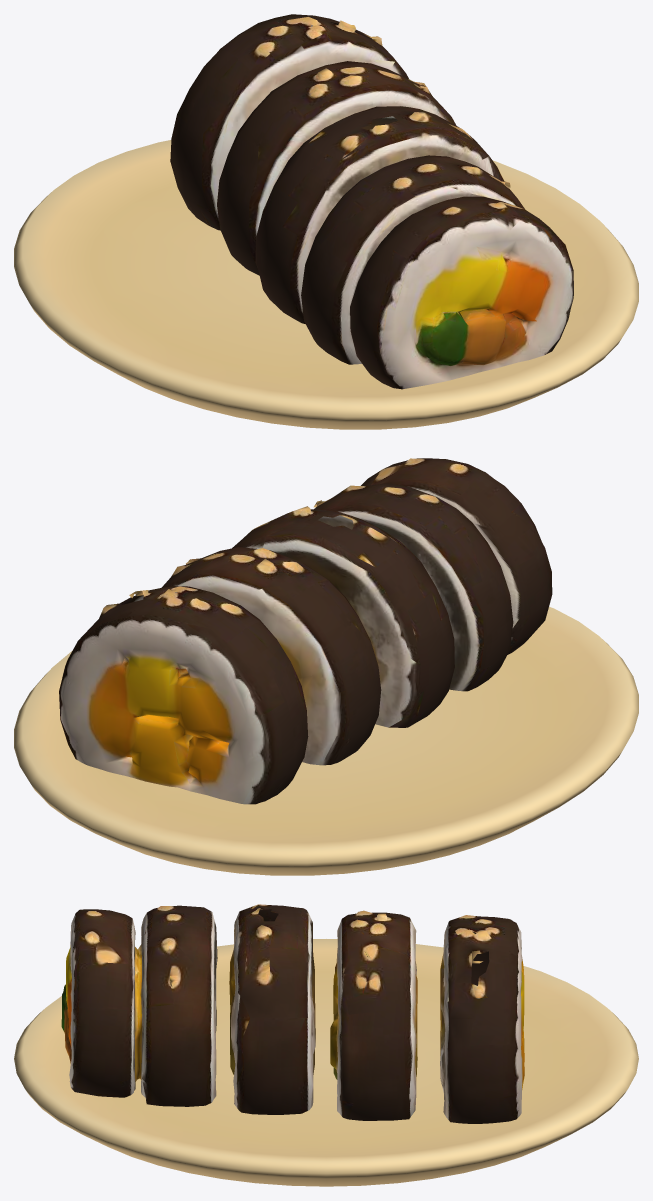
3 views of the same model, one above another, from view 1: azimuth 30°, elevation 25°; view 2: azimuth 150°, elevation 25°; view 3: azimuth 270°, elevation 25° (orthographic). The views are drawn at different scales.
Visible parts, largest first — view 1: gimbap; view 2: gimbap; view 3: gimbap.
Part boxes in pixels (x1,y1,x2,y2): gimbap: (14, 14, 638, 429); gimbap: (14, 458, 638, 875); gimbap: (14, 904, 638, 1186).
Bounding box in the file's own units: 0.1738 × 0.0747 × 0.2001.
2 materials, 1 textured.
